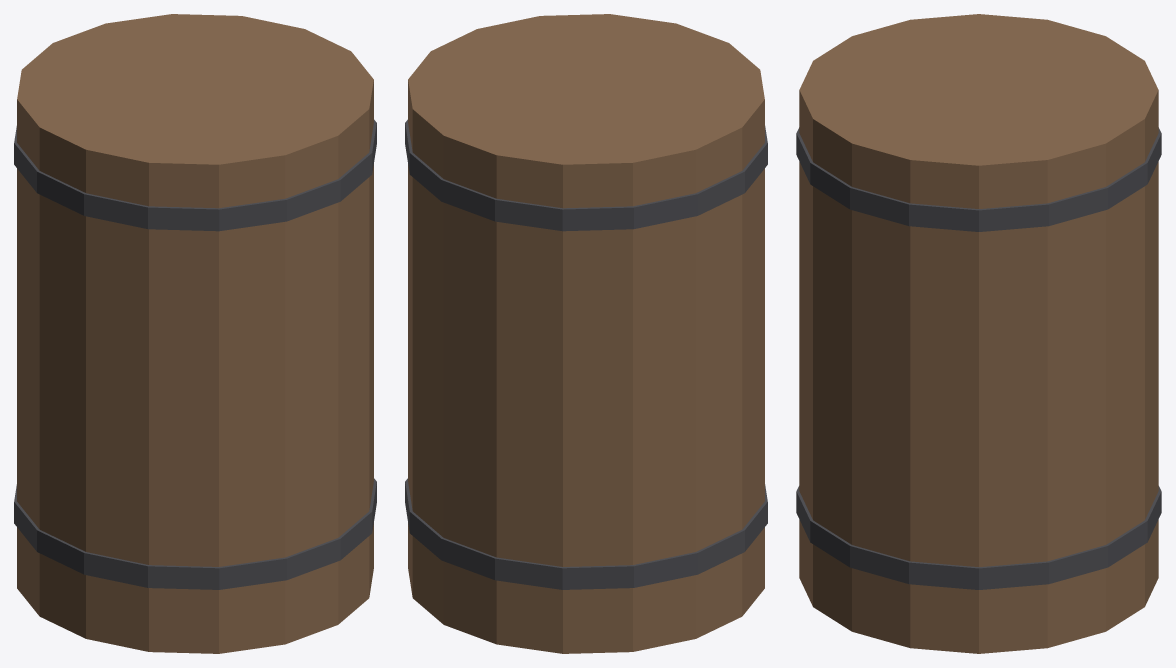
Rendered from Barrel.glb.
3 views of the same model, side by side, from view 1: azimuth 30°, elevation 25°; view 2: azimuth 150°, elevation 25°; view 3: azimuth 270°, elevation 25° (orthographic).
Parts seen in each view (by area): view 1: Barrel; view 2: Barrel; view 3: Barrel.
Part boxes in pixels (x1,y1,x2,y2): Barrel: (14,14,376,653); Barrel: (405,14,767,653); Barrel: (796,14,1161,653).
Size of the model in its own units: 0.61 by 0.9 by 0.61.
